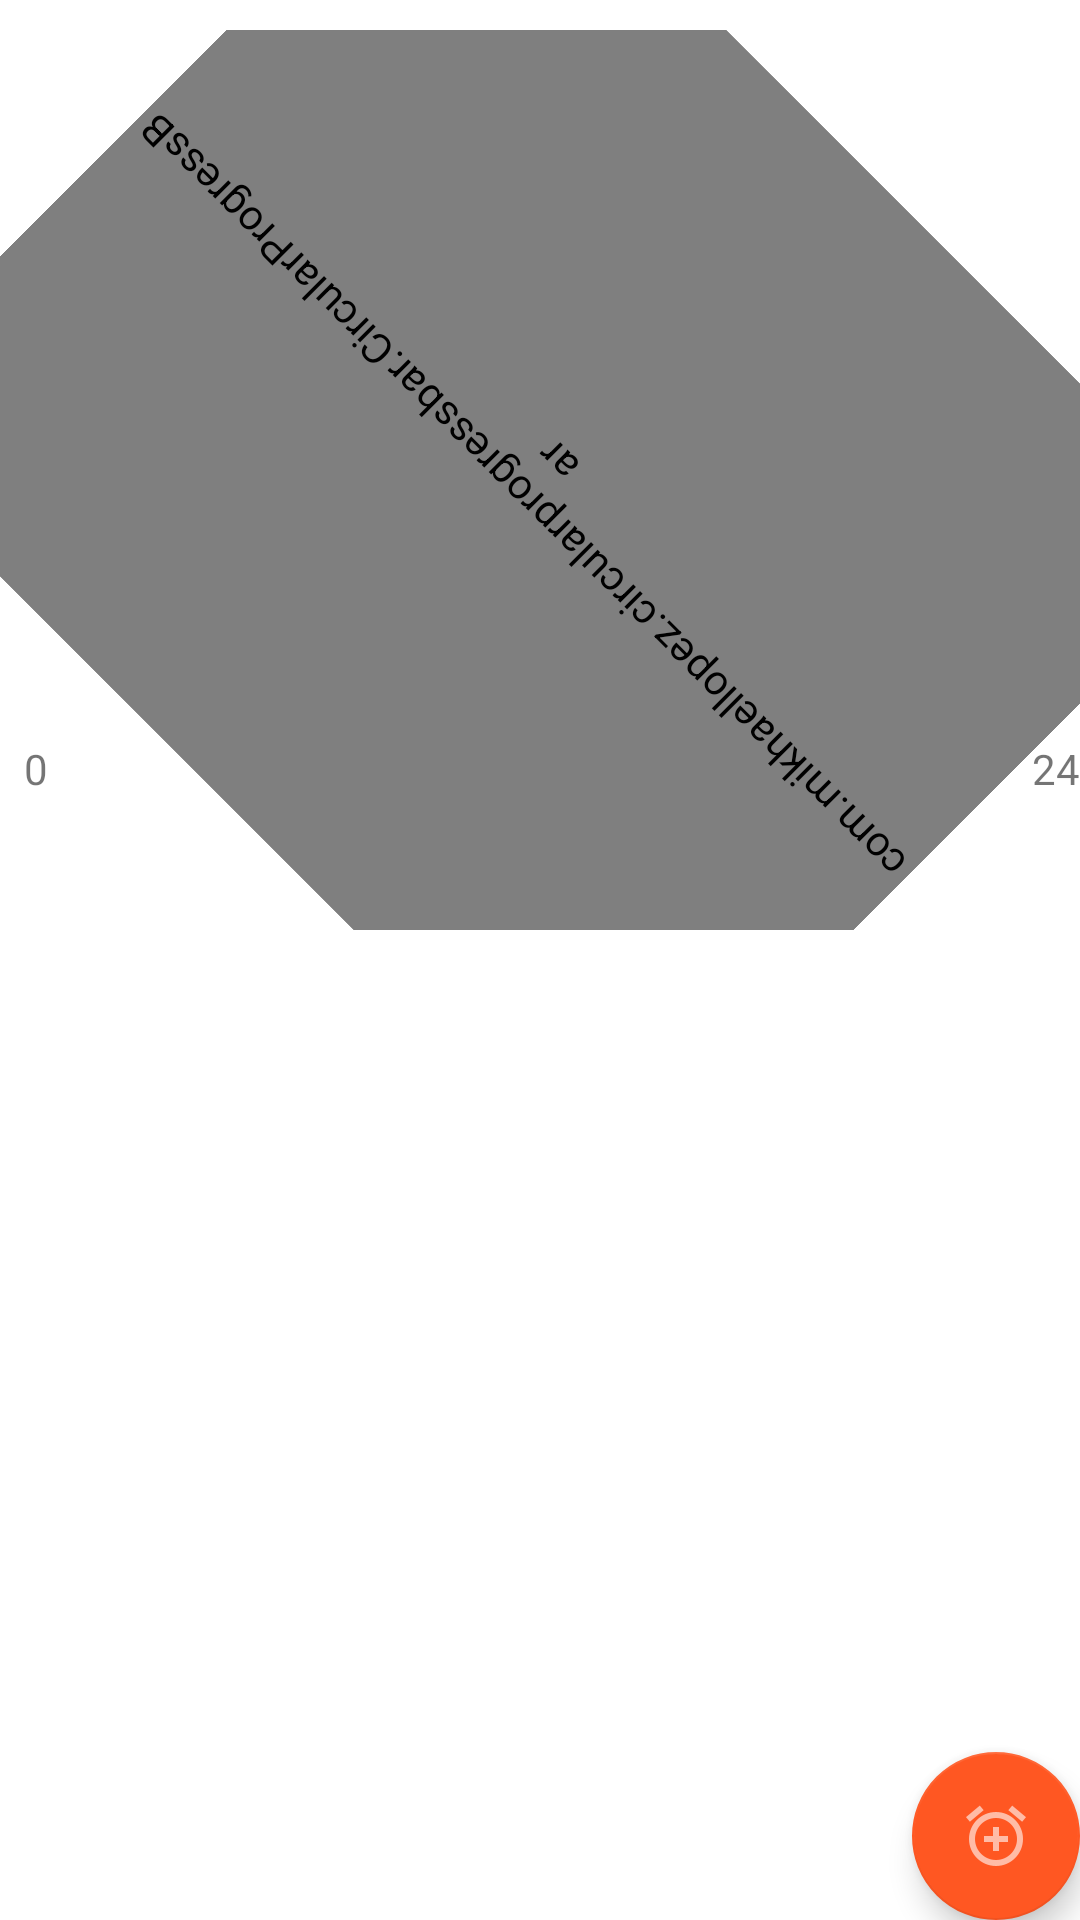

Point at icon controls on the screen. Image size 1080x1920, points as (x,y).
alarm add: (996,1836)
